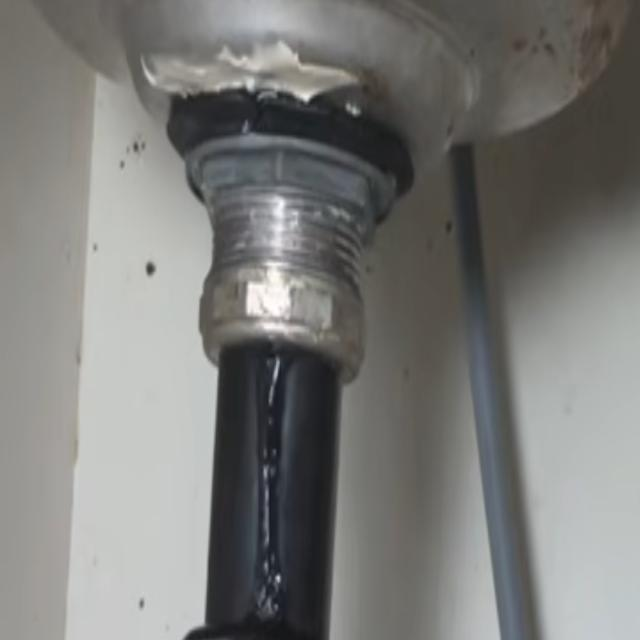leak: (255, 353, 284, 622)
